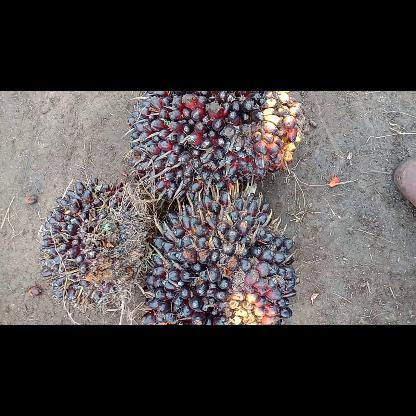TBS mentah: (118, 90, 308, 208), (139, 188, 303, 324), (36, 176, 154, 312)
